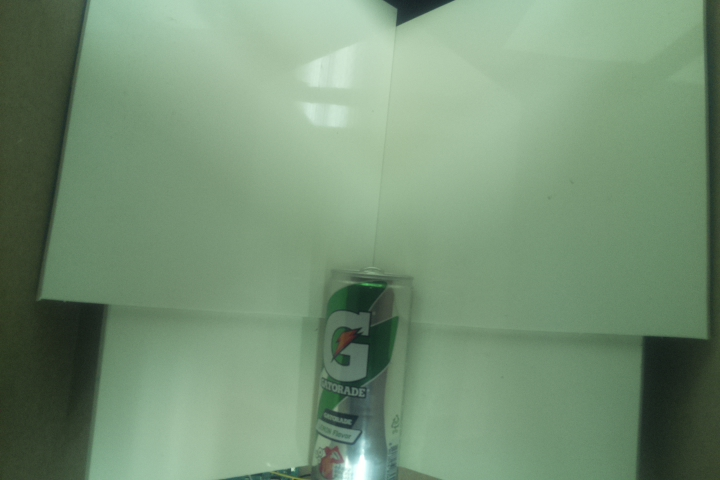can: (308, 264, 420, 480)
